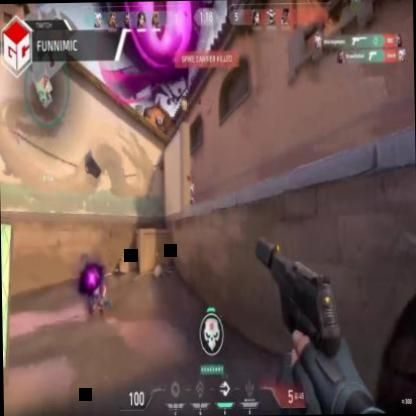enemy: (187, 178, 196, 208)
enemy_head: (188, 178, 192, 185)
